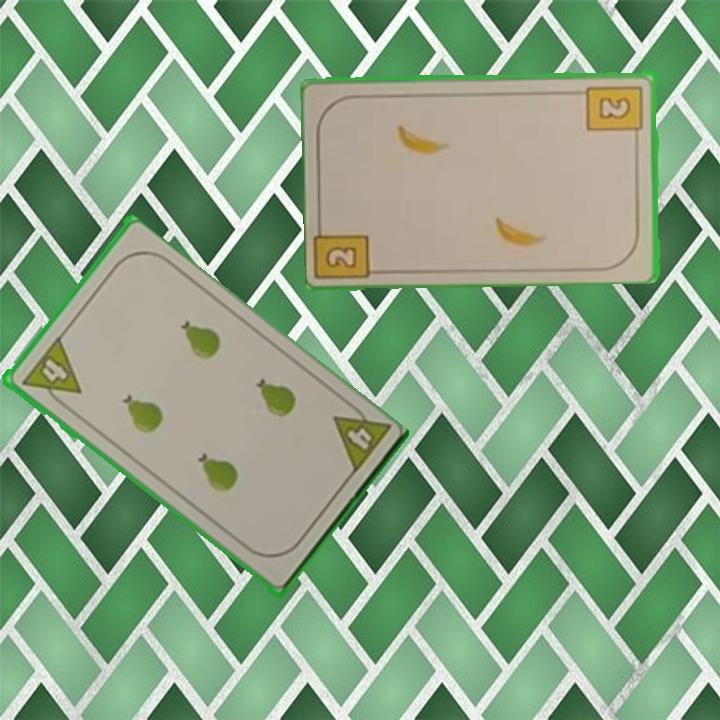2b: (584, 81, 646, 143), (321, 242, 361, 272)
4p: (328, 396, 393, 478), (17, 334, 83, 412)
